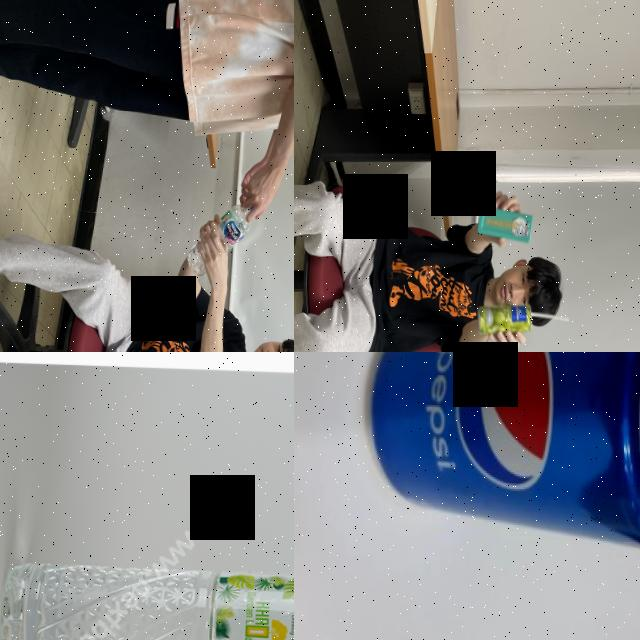bottle: (0, 558, 294, 640), (184, 204, 256, 279)
can: (355, 352, 640, 564), (474, 300, 532, 338)
